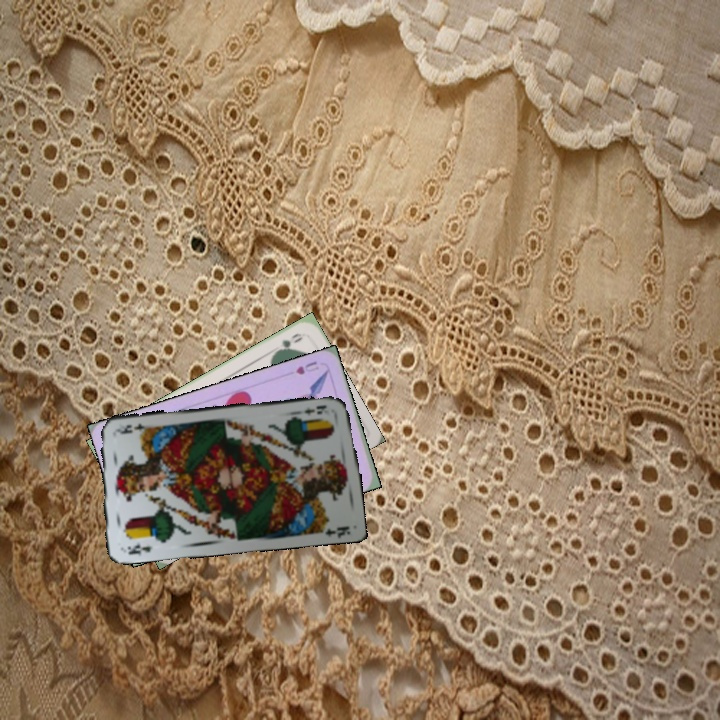EK: (123, 540, 154, 558), (300, 401, 329, 419)
GO: (270, 329, 306, 357)
HU: (292, 357, 321, 377)
